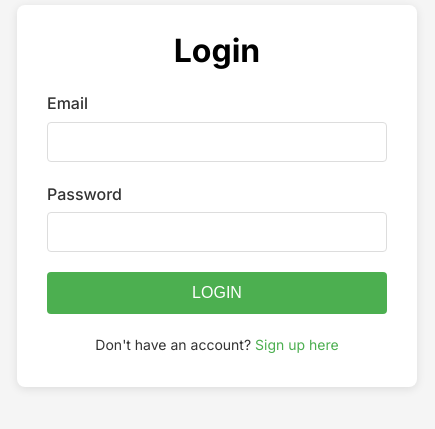
it: LoginPage › shows validation error for invalid email
This screenshot has width=435, height=429.
Type "invalid-email" into the field labelled "Email" at coordinates (217, 142), box [47, 122, 387, 162]
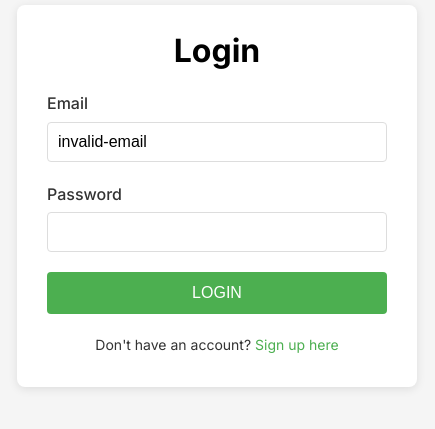
Submit the form "Login", box [47, 91, 387, 314]
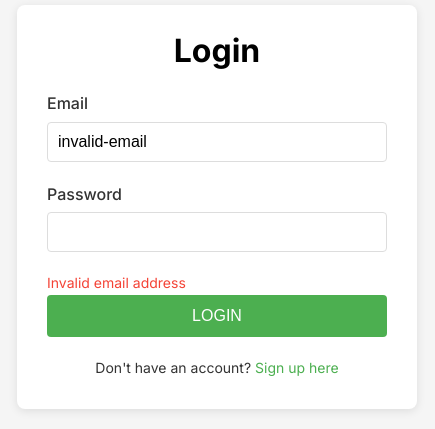
Check: the text "Invalid email address" is shown, box [47, 274, 186, 291]
